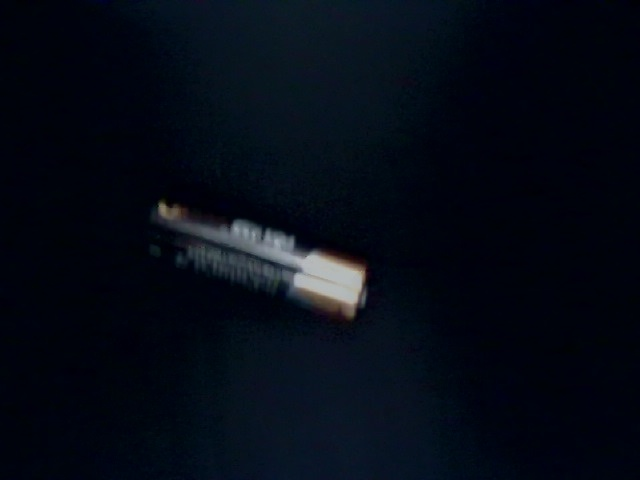YHLJ: (430, 374, 535, 474)
